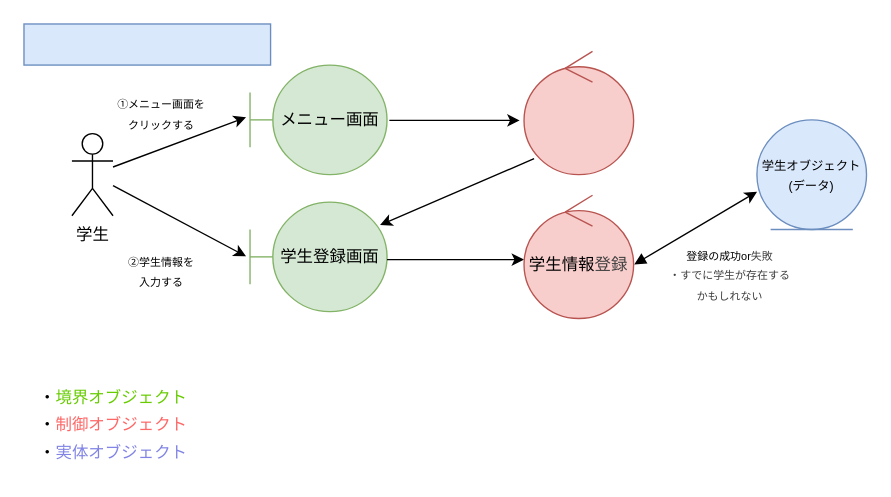
Some shapes in this 891 by 497 pixel diagram are drawn without their labels. Here are the shapes that lost their labels. From the top down, the centre of each, then its label:
At [147,44]: "分析モデル(ロバストネス図)".
At [578,112]: "表示(する)".
